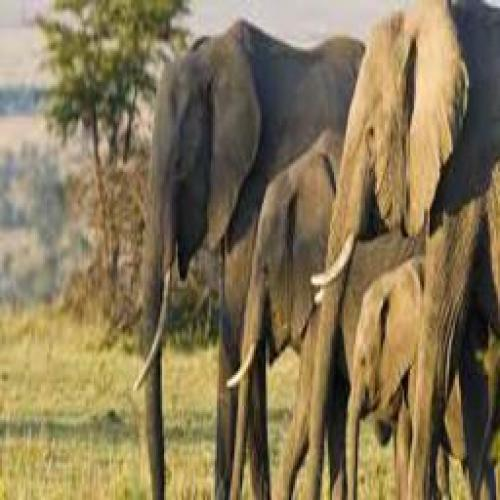african_elephant-endangered: (117, 29, 423, 500), (302, 2, 500, 500), (240, 144, 367, 500), (342, 258, 496, 500)
